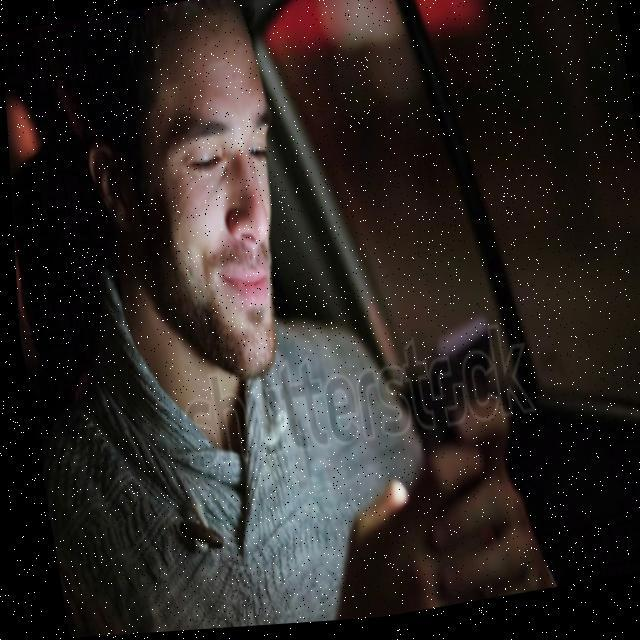PhoneCall: (388, 323, 509, 508)
